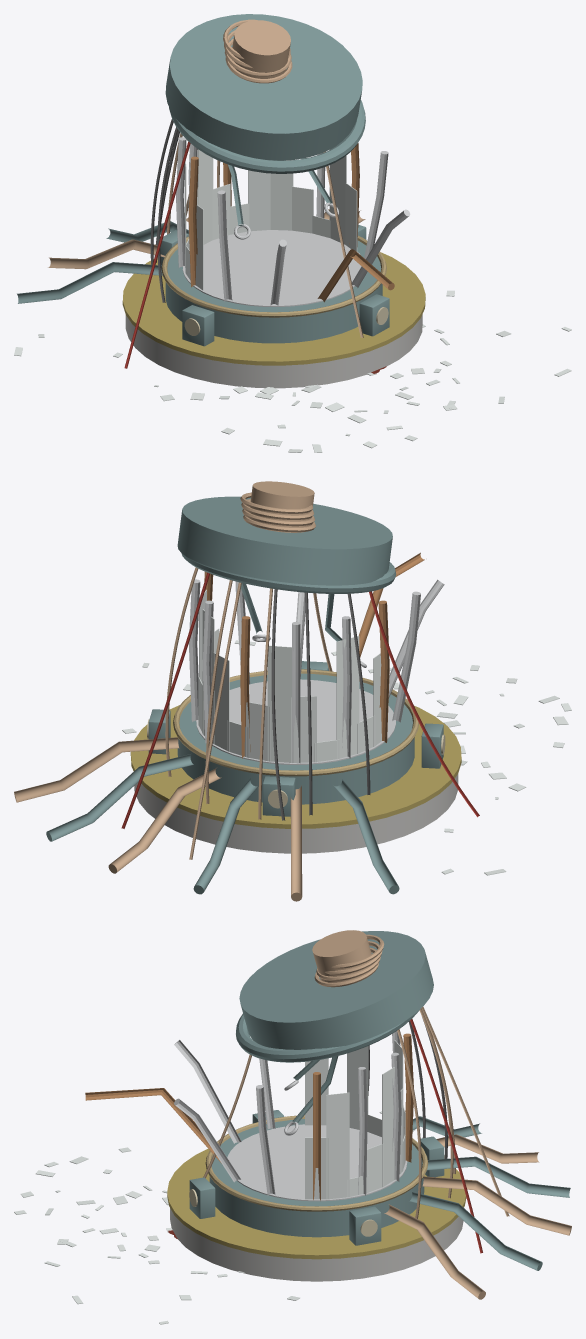
The model's file is failed_containment_device.glb.
3 views of the same model, one above another, from view 1: azimuth 30°, elevation 25°; view 2: azimuth 150°, elevation 25°; view 3: azimuth 270°, elevation 25° (orthographic). The views are drawn at different scales.
Visible parts, largest first — view 1: failed_containment_device; view 2: failed_containment_device; view 3: failed_containment_device.
Boxes of the visible parts, left/top/right/bottom form: failed_containment_device: left=14, top=14, right=571, bottom=452; failed_containment_device: left=14, top=481, right=571, bottom=901; failed_containment_device: left=14, top=930, right=571, bottom=1324.
Size of what is drawn, in the model's own units: 8.98 by 5.52 by 9.87.
